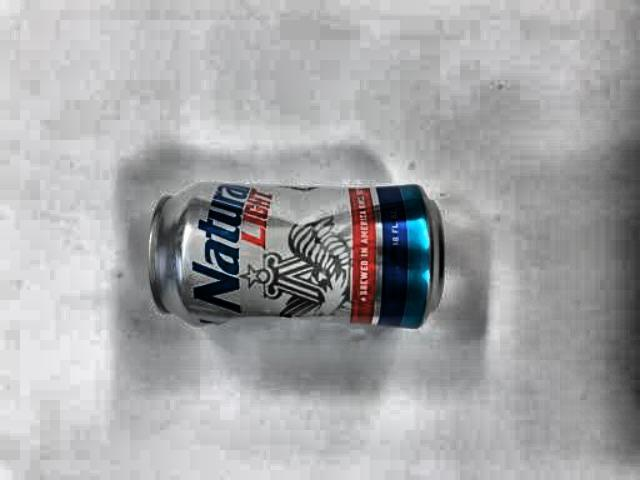Bottles: (142, 160, 471, 366)
